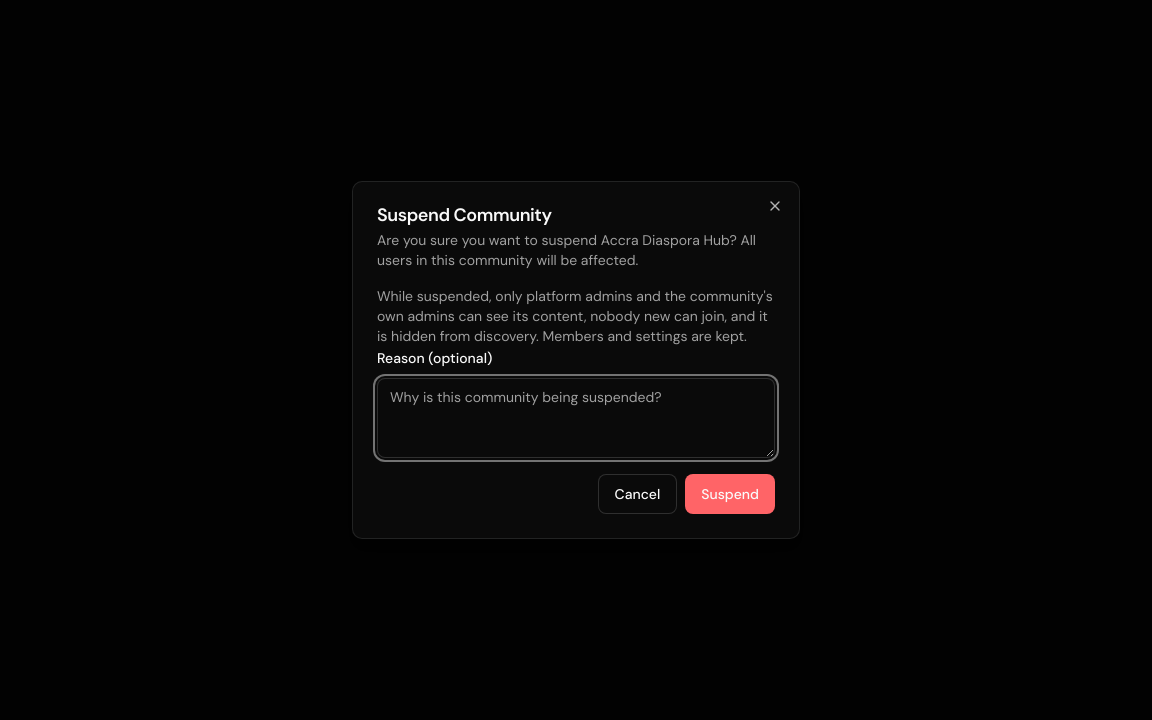
Scenario: SuspendCommunityDialog › treats success:false as a failure
What coordinates should you click on to do the following:
click the button "Suspend"
I would click on:
 (730, 494)
Its box is [685, 474, 775, 514].
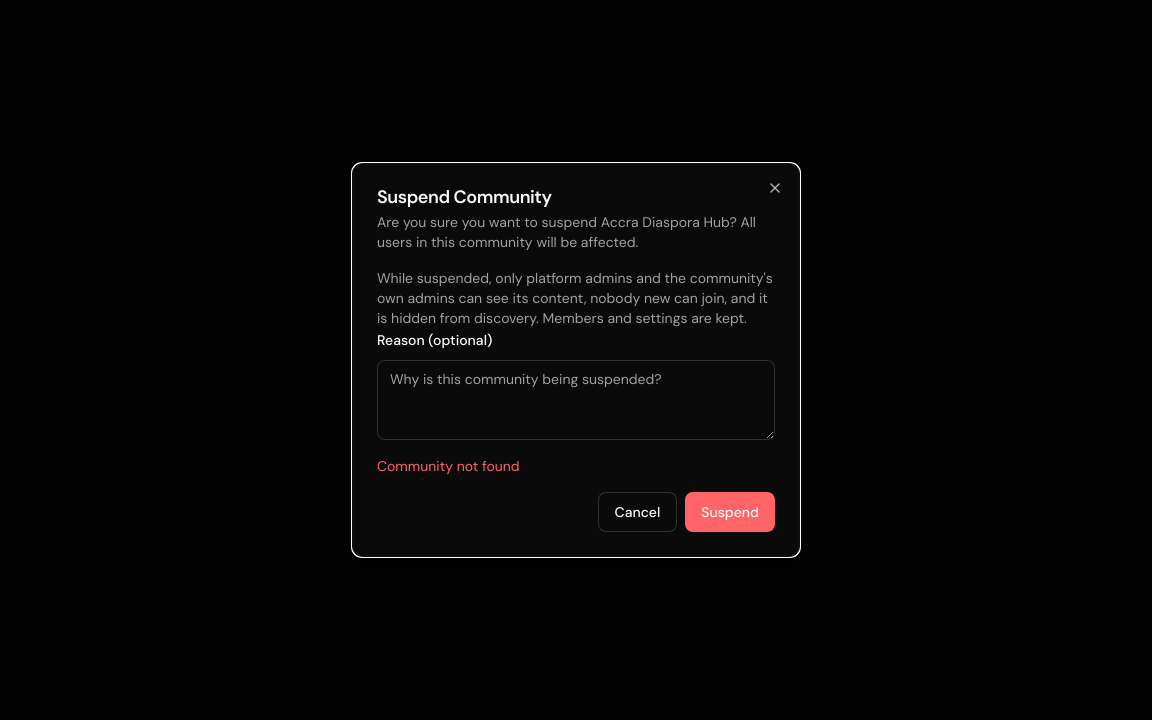
Check: the message reads "Community not found", box [377, 457, 520, 475]
